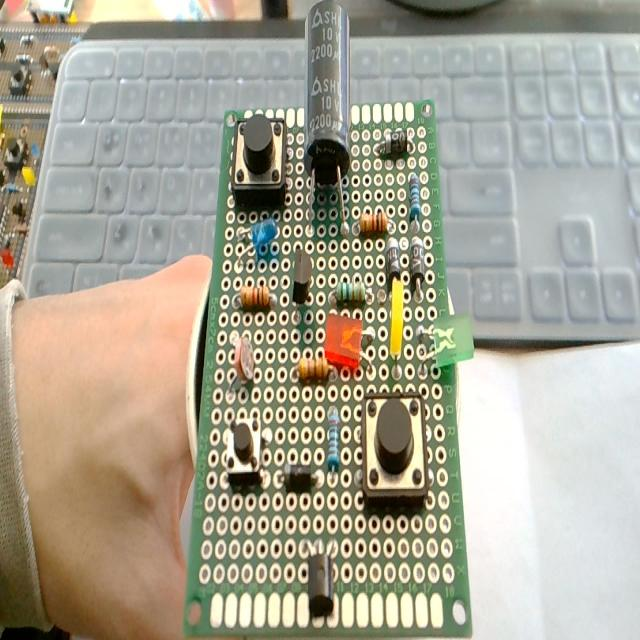Electrolytic capacitor: (301, 6, 351, 232)
cds: (228, 332, 255, 391)
diode: (283, 462, 318, 491), (385, 236, 401, 290), (376, 130, 408, 156), (410, 237, 424, 295)
led: (430, 311, 478, 368), (324, 312, 362, 371), (240, 214, 279, 270), (388, 277, 404, 383)
resistor: (407, 175, 424, 297), (327, 407, 341, 472), (298, 354, 330, 382), (241, 284, 270, 310), (360, 210, 388, 235), (408, 172, 421, 222), (337, 280, 364, 304)
switch: (359, 392, 428, 509), (232, 114, 288, 214), (226, 412, 264, 484)
transistor: (306, 545, 336, 619), (292, 248, 312, 303)
